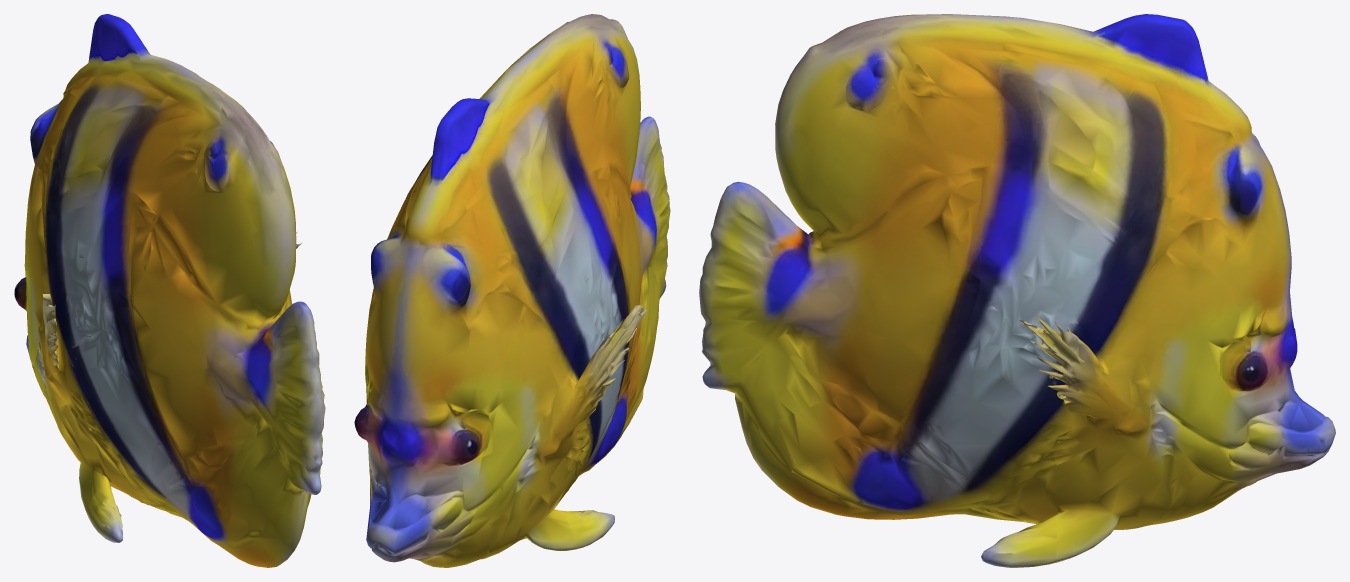
File: p-pez.glb
3 views of the same model, side by side, from view 1: azimuth 30°, elevation 25°; view 2: azimuth 150°, elevation 25°; view 3: azimuth 270°, elevation 25° (orthographic). The views are drawn at different scales.
Visible parts, largest first — view 1: tripo_node_cffb1756-c2dc-4c73-b1d7-a811d926e897; view 2: tripo_node_cffb1756-c2dc-4c73-b1d7-a811d926e897; view 3: tripo_node_cffb1756-c2dc-4c73-b1d7-a811d926e897.
Part boxes in pixels (x1=…): tripo_node_cffb1756-c2dc-4c73-b1d7-a811d926e897: x1=14, y1=14, x2=325, y2=567; tripo_node_cffb1756-c2dc-4c73-b1d7-a811d926e897: x1=354, y1=14, x2=670, y2=567; tripo_node_cffb1756-c2dc-4c73-b1d7-a811d926e897: x1=699, y1=14, x2=1335, y2=567.
Bounding box in the file's own units: 0.522 × 0.8872 × 0.9985.
1 material, 1 textured.
